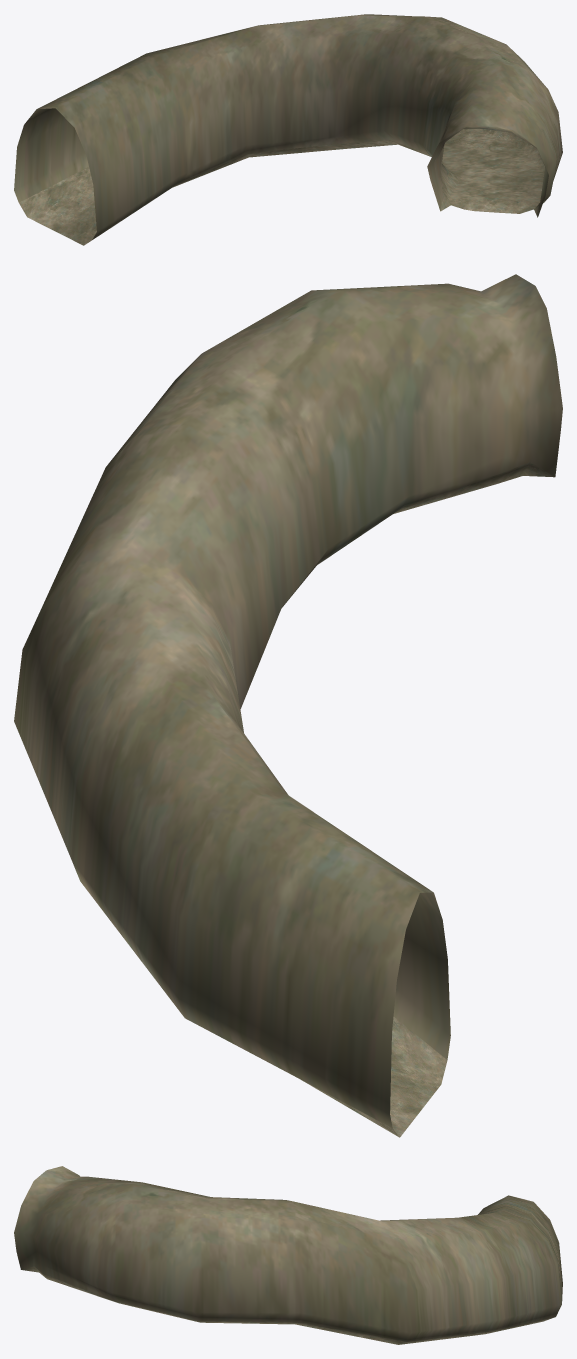
Rendered from OVERHILL_A_01_OH_B_OBJECT44.fbx.
3 renders of one model, top to bottom at view 1: azimuth 30°, elevation 25°; view 2: azimuth 150°, elevation 25°; view 3: azimuth 270°, elevation 25°, orthographic. The views are drawn at different scales.
Visible parts, largest first — view 1: OVERHILL_A_01_OH_B_OBJECT44; view 2: OVERHILL_A_01_OH_B_OBJECT44; view 3: OVERHILL_A_01_OH_B_OBJECT44.
Part boxes in pixels (bbox=[...]): OVERHILL_A_01_OH_B_OBJECT44: bbox=[14, 14, 562, 245]; OVERHILL_A_01_OH_B_OBJECT44: bbox=[14, 274, 562, 1137]; OVERHILL_A_01_OH_B_OBJECT44: bbox=[14, 1166, 562, 1344].
Size of the model in its own units: 88277 by 65888 by 137038.
Materials: 1 (1 with a texture image).
